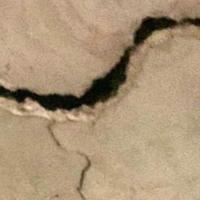crack: (1, 14, 199, 119)
